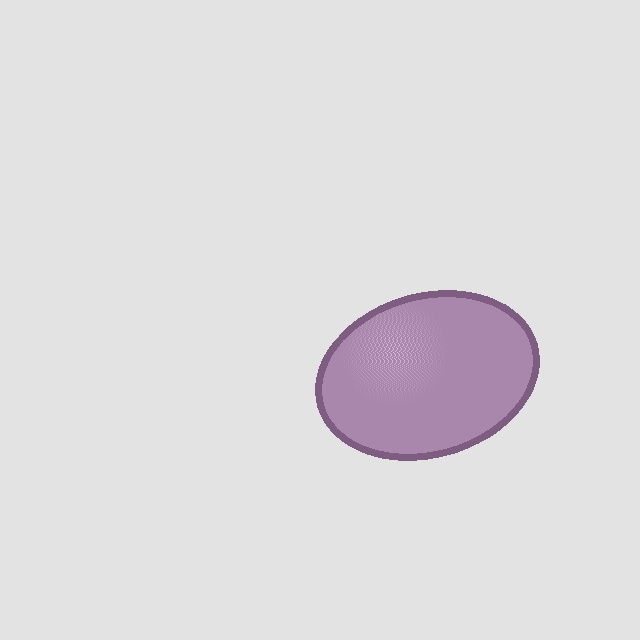lens: (318, 294, 536, 456)
